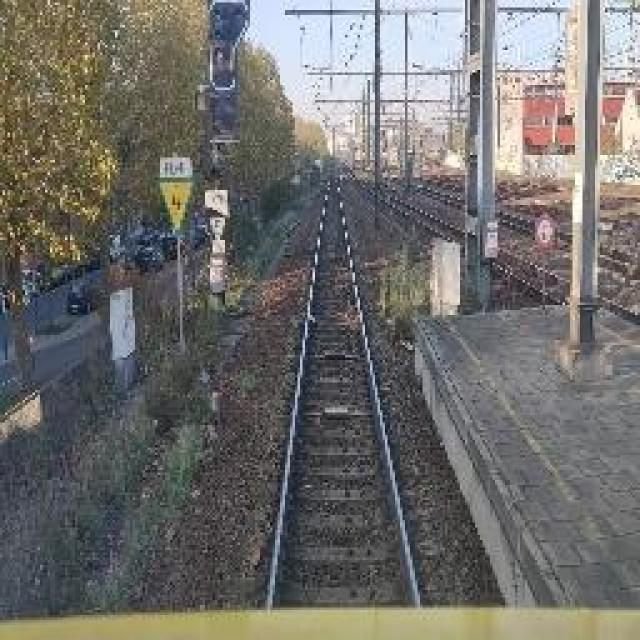rail: (248, 164, 450, 608)
